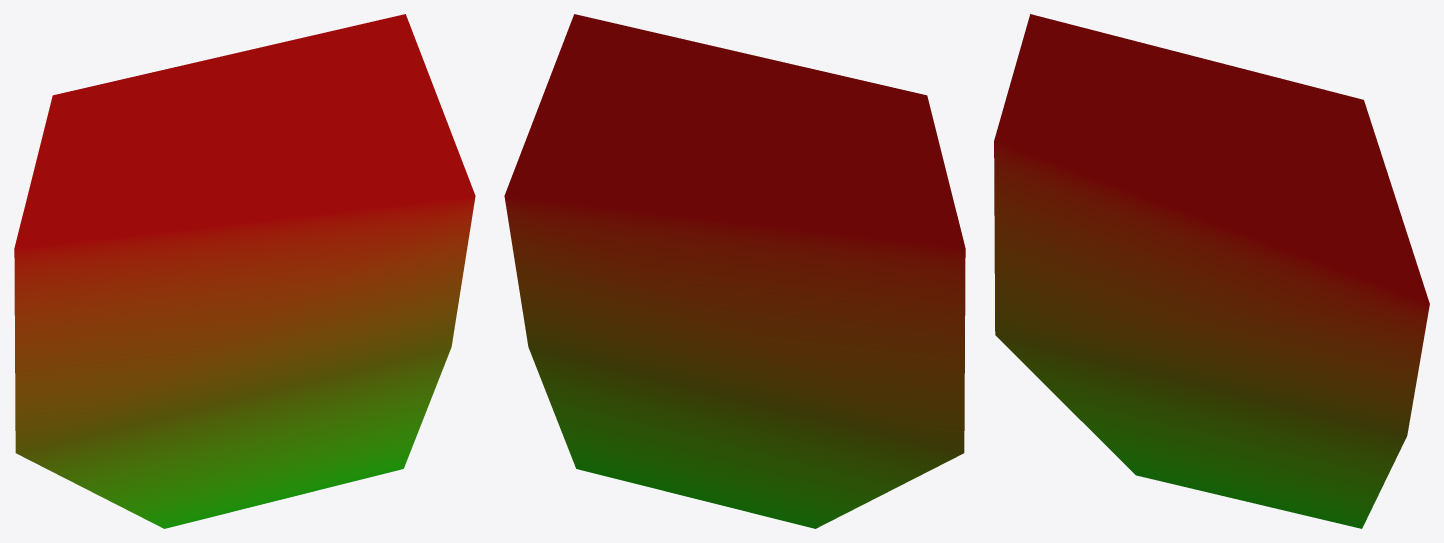
File: White Ramping Fumitory_LOD4_Var2_ti4efc3ia.fbx
3 renders of one model, left to right at view 1: azimuth 30°, elevation 25°; view 2: azimuth 150°, elevation 25°; view 3: azimuth 330°, elevation 25°, orthographic. The views are drawn at different scales.
Parts seen in each view (by area): view 1: _e55b_Var2_LOD4; view 2: _e55b_Var2_LOD4; view 3: _e55b_Var2_LOD4.
Part boxes in pixels (left/top/right/bottom): _e55b_Var2_LOD4: left=14, top=14, right=475, bottom=528; _e55b_Var2_LOD4: left=504, top=14, right=965, bottom=528; _e55b_Var2_LOD4: left=994, top=14, right=1429, bottom=528.
Size of the model in its own units: 85.58 by 81.73 by 1.91e-06.
